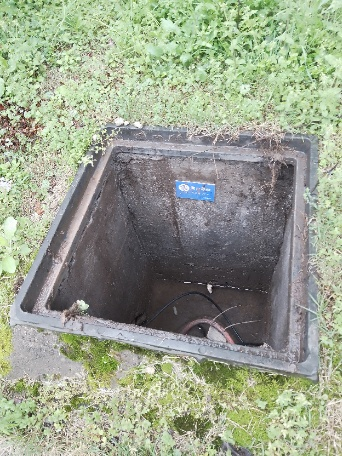lose: (9, 120, 320, 380)
